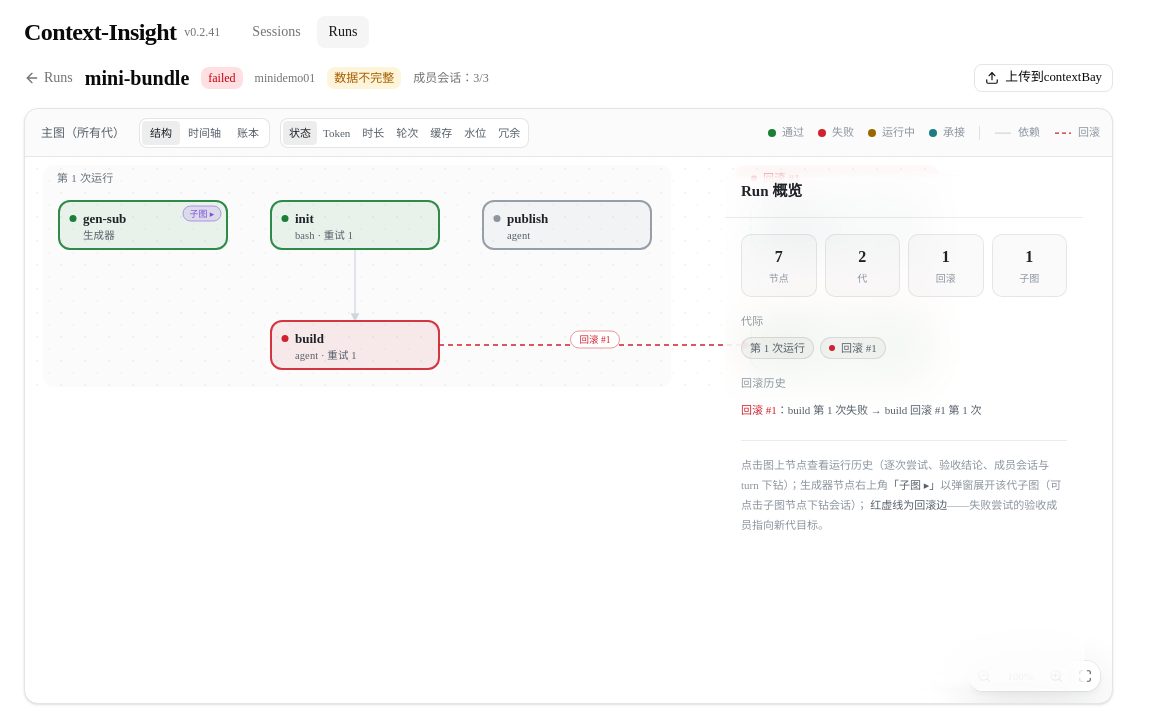
Test: 失败归因 post-mortem：环境指纹 / 同因连败 / 验收项清单 › 账本归因徽标：修复名单直接带「为什么败」（同因连败 / 疑似环境）
Click the button "账本".
click(248, 132)  # box [229, 120, 267, 144]
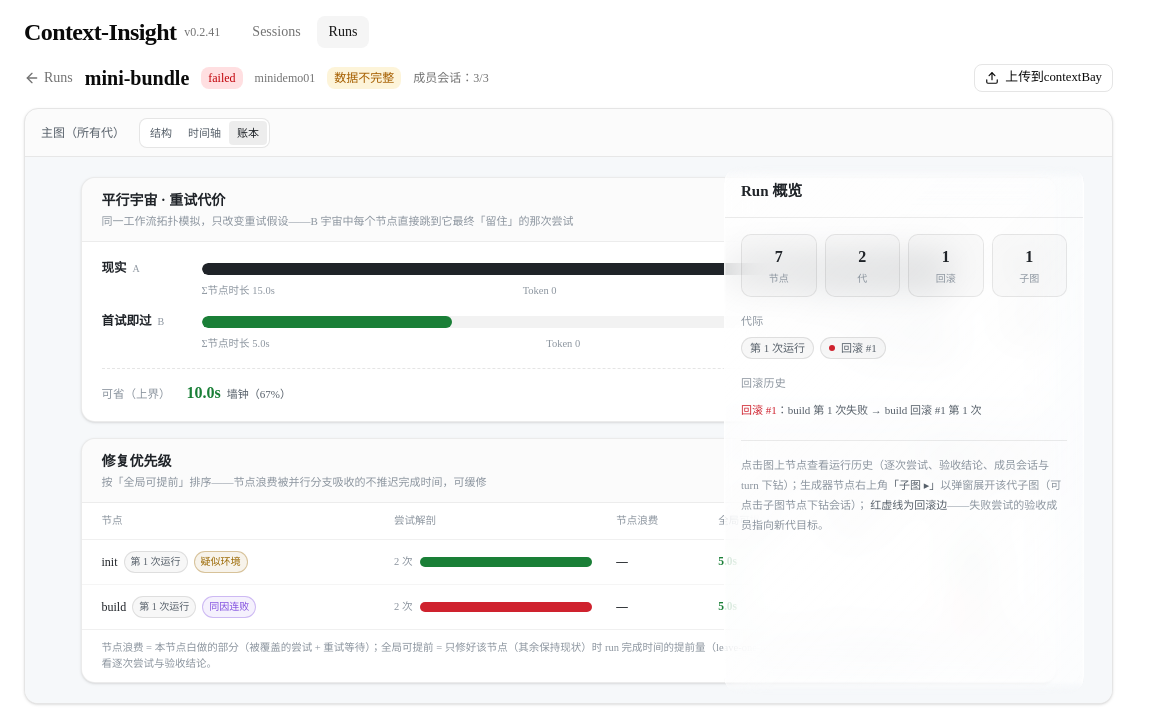
Expected: the row with class "ledger-row" shows "同因连败", [209, 601, 249, 612]
Expected: the row with class "ledger-row" shows "疑似环境", [200, 556, 240, 567]
